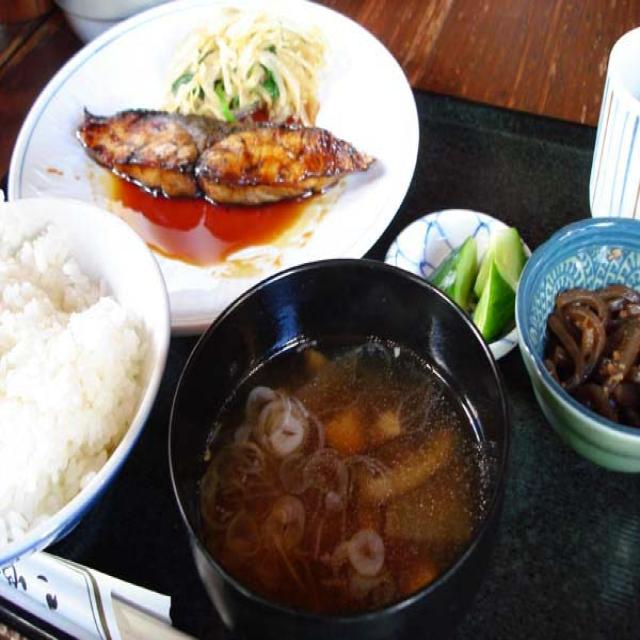熟制海鲜: (60, 90, 378, 239)
